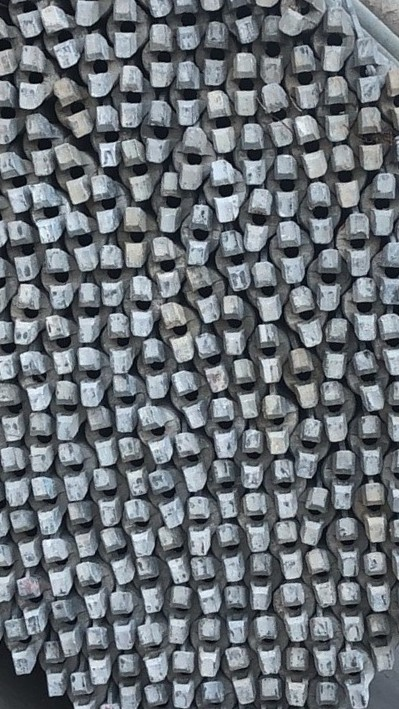NHsquare_steel: (290, 115, 330, 181), (53, 76, 93, 138), (350, 347, 388, 412), (289, 284, 327, 348), (42, 6, 79, 69), (146, 469, 185, 528), (193, 332, 232, 391), (205, 157, 238, 225), (242, 185, 275, 252), (204, 90, 238, 155), (187, 555, 224, 614), (186, 264, 223, 323), (275, 221, 308, 287), (285, 347, 320, 408), (158, 305, 194, 364), (56, 141, 89, 205), (174, 430, 206, 496), (291, 416, 324, 480), (260, 84, 293, 148), (304, 181, 337, 245), (137, 403, 171, 465), (296, 485, 330, 547), (320, 74, 351, 142), (259, 395, 294, 455), (342, 209, 372, 279), (303, 545, 336, 608), (222, 645, 256, 706), (259, 15, 288, 86), (42, 246, 74, 310), (176, 125, 208, 189), (249, 259, 281, 323), (6, 220, 39, 282), (304, 615, 337, 677), (331, 143, 362, 209), (290, 44, 320, 112), (100, 313, 135, 371), (157, 526, 192, 584), (66, 210, 98, 273), (173, 62, 204, 127), (218, 230, 251, 291), (13, 281, 43, 348), (172, 371, 206, 430), (144, 97, 174, 163), (232, 52, 262, 118), (272, 520, 305, 580), (355, 413, 385, 479), (146, 22, 175, 90), (186, 199, 215, 267), (368, 170, 396, 240), (101, 527, 135, 584), (353, 36, 381, 105), (318, 381, 349, 443), (334, 579, 365, 641), (90, 170, 120, 234), (360, 481, 390, 545), (201, 20, 230, 86), (355, 105, 384, 171), (24, 115, 55, 176), (31, 184, 62, 245), (153, 237, 184, 298), (364, 613, 395, 674), (362, 549, 393, 610), (282, 644, 312, 707), (9, 508, 41, 567), (3, 618, 35, 677), (41, 539, 73, 598), (56, 442, 88, 501), (90, 465, 122, 524), (253, 615, 285, 674), (269, 457, 301, 516), (341, 649, 373, 708), (240, 492, 273, 549), (158, 171, 187, 235), (254, 323, 286, 381), (18, 44, 46, 110), (14, 578, 47, 634), (271, 153, 298, 221), (1, 152, 31, 213), (74, 559, 105, 618), (118, 437, 149, 496), (26, 410, 55, 473), (76, 345, 105, 408), (140, 338, 169, 401), (65, 500, 97, 557), (86, 408, 118, 465), (315, 247, 342, 314), (47, 313, 77, 373), (278, 581, 308, 641), (134, 557, 165, 615), (232, 359, 261, 421), (82, 32, 110, 96), (96, 242, 123, 308), (320, 8, 347, 74), (1, 449, 31, 508), (30, 477, 60, 536), (108, 591, 137, 652), (327, 448, 356, 509), (50, 600, 81, 657), (238, 427, 266, 490), (242, 122, 270, 185), (121, 205, 148, 270), (74, 278, 100, 345), (22, 351, 52, 409), (123, 139, 153, 197), (218, 295, 247, 355), (322, 316, 349, 380), (94, 101, 120, 167), (138, 622, 167, 681), (54, 379, 81, 442), (128, 274, 155, 337), (127, 499, 156, 557), (211, 460, 240, 518), (185, 495, 213, 555), (247, 550, 274, 612), (217, 523, 245, 582), (333, 517, 361, 576), (210, 398, 237, 459), (119, 65, 144, 130), (170, 649, 197, 709), (167, 585, 193, 647), (351, 281, 377, 342), (86, 627, 113, 685), (198, 615, 222, 678), (113, 1, 139, 59), (40, 640, 66, 698), (174, 1, 203, 51), (222, 584, 247, 642), (1, 384, 25, 442), (113, 375, 137, 433), (380, 310, 399, 377), (118, 654, 141, 708), (1, 79, 18, 147), (381, 241, 399, 303), (1, 320, 18, 380), (1, 545, 13, 601)
